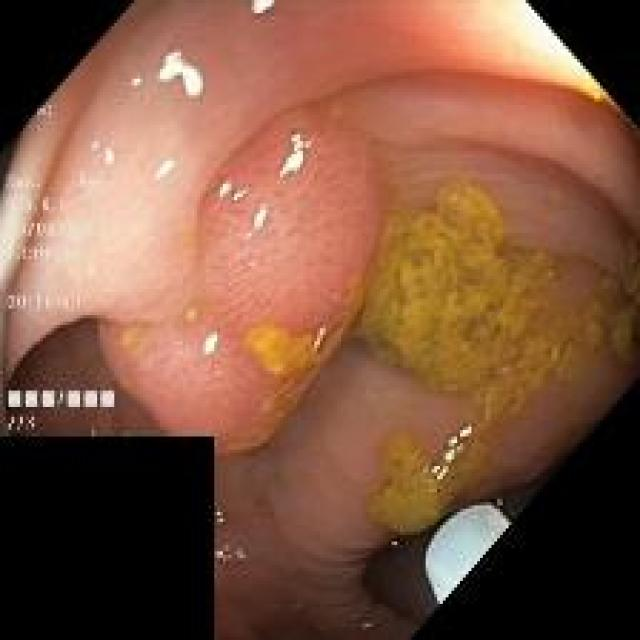Polyps: (101, 108, 385, 454)
